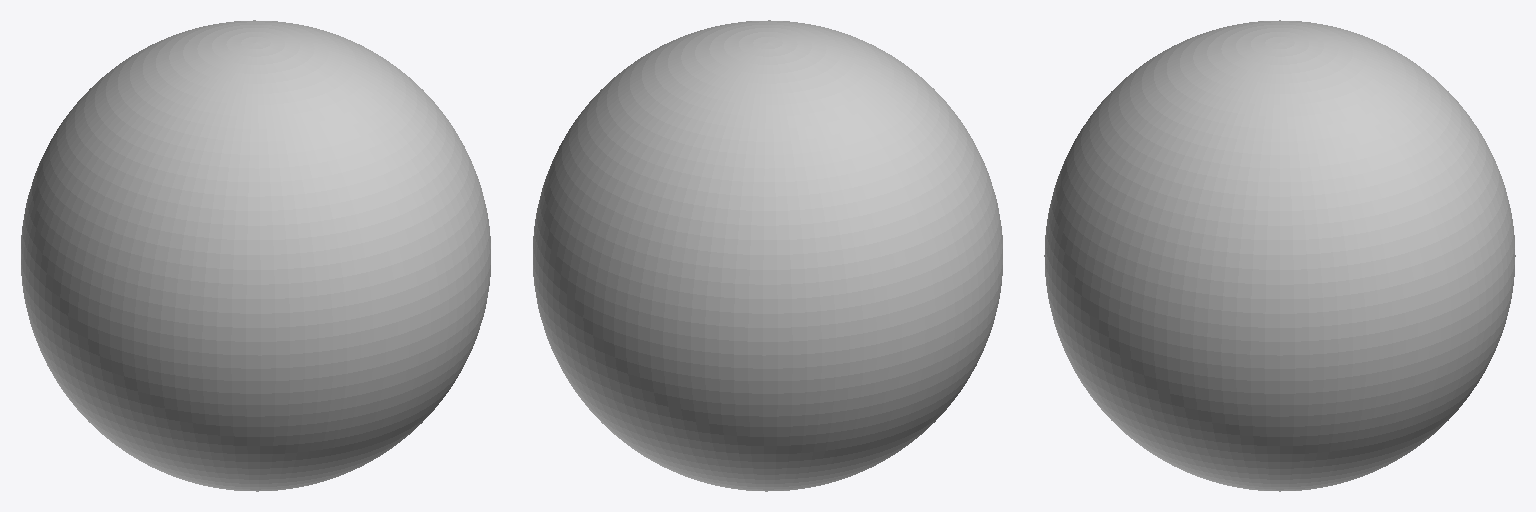
Rendered from earth_clouds.obj.
3 renders of one model, left to right at view 1: azimuth 30°, elevation 25°; view 2: azimuth 150°, elevation 25°; view 3: azimuth 270°, elevation 25°, orthographic.
Visible parts, largest first — view 1: Sphere004_Mesh.002; view 2: Sphere004_Mesh.002; view 3: Sphere004_Mesh.002.
Boxes of the visible parts, box(x1,y1,x2,y2) form: Sphere004_Mesh.002: box(21, 20, 490, 491); Sphere004_Mesh.002: box(533, 20, 1002, 491); Sphere004_Mesh.002: box(1044, 20, 1515, 491).
Bounding box in the file's own units: 2.04 × 2.04 × 2.04.